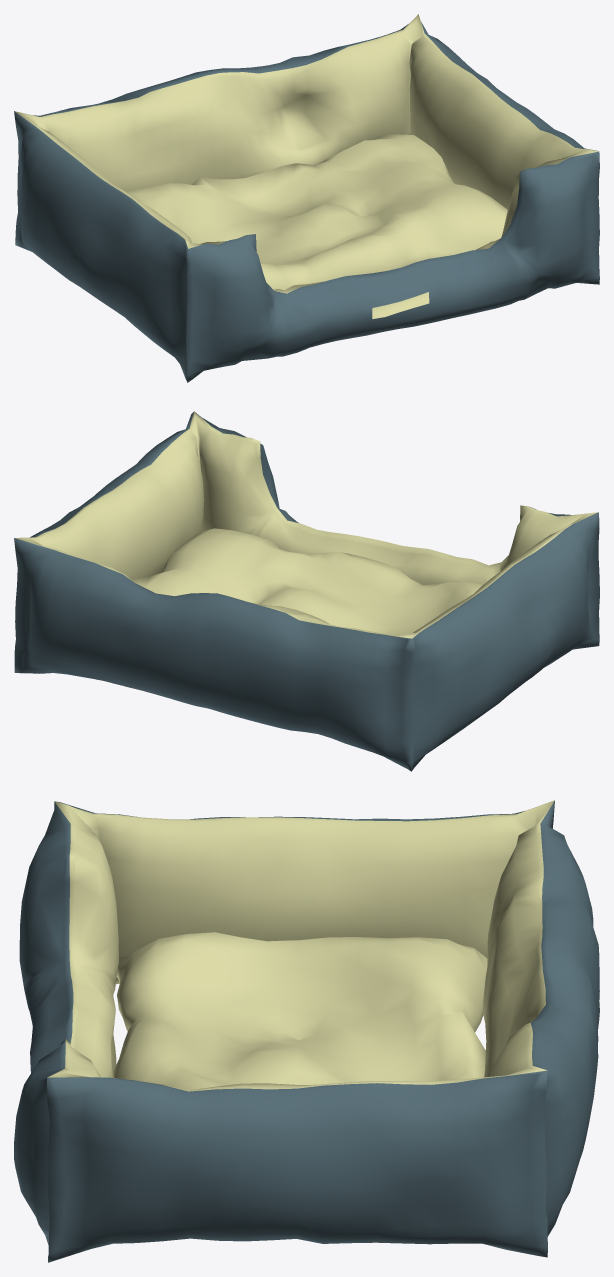
Rendered from PetBed.fbx.
3 views of the same model, one above another, from view 1: azimuth 30°, elevation 25°; view 2: azimuth 150°, elevation 25°; view 3: azimuth 270°, elevation 25° (orthographic). The views are drawn at different scales.
Visible parts, largest first — view 1: Object_1; view 2: Object_1; view 3: Object_1.
Part boxes in pixels (<box>): Object_1: <box>14,14,599,382</box>; Object_1: <box>14,411,599,771</box>; Object_1: <box>14,800,599,1262</box>.
Size of the model in its own units: 152 by 44.95 by 122.
